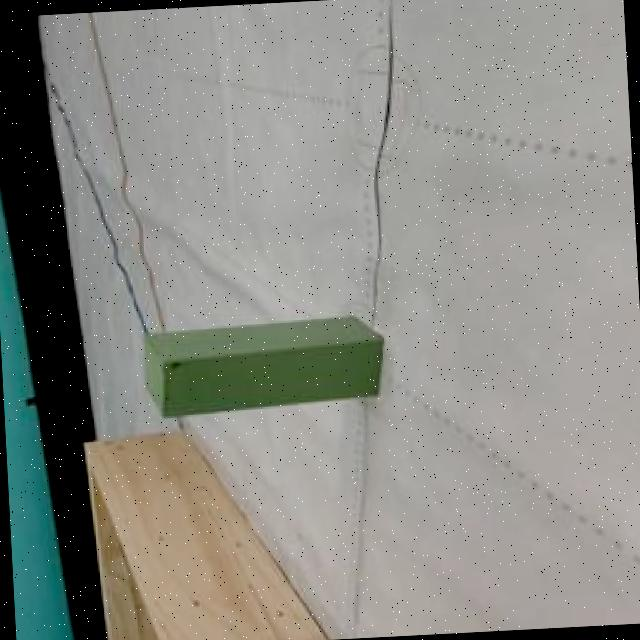greenbox: (142, 310, 388, 419)
